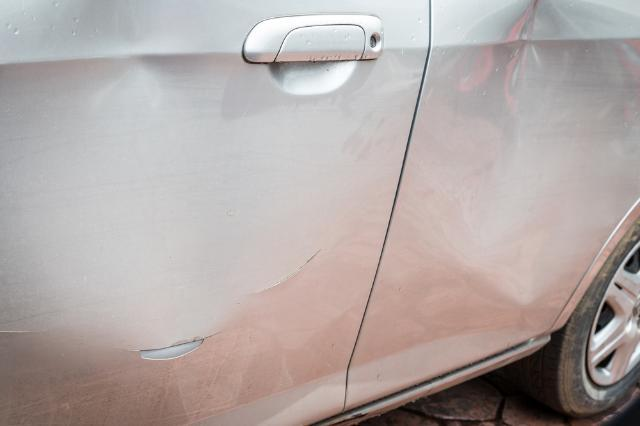crack: (247, 249, 322, 296), (114, 330, 225, 360)
dent: (430, 0, 640, 305), (72, 0, 214, 140)
